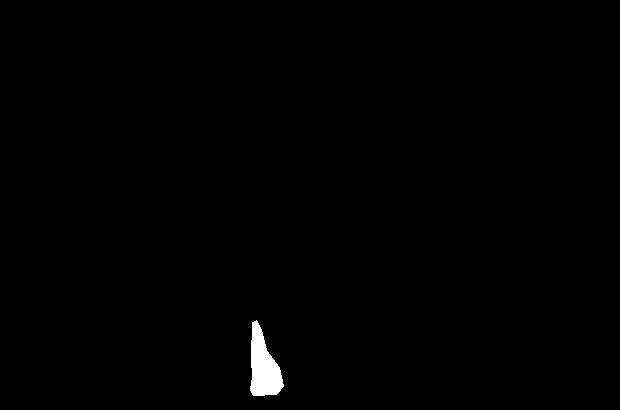type5: (246, 315, 284, 400)
